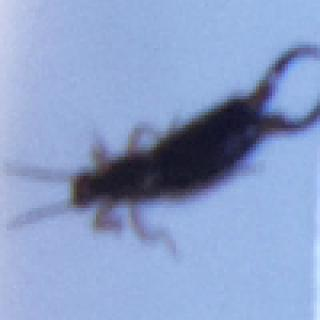earwig: (0, 42, 320, 256)
